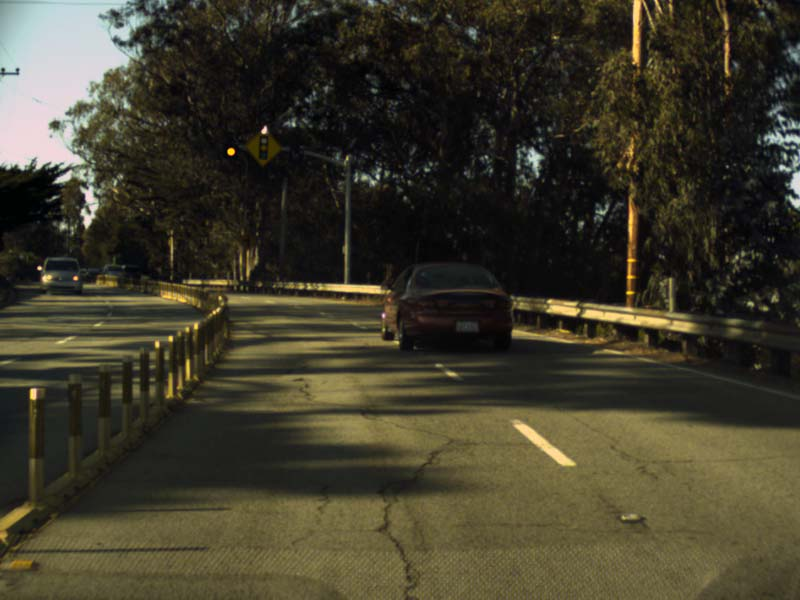Yellow: (223, 144, 236, 158)
